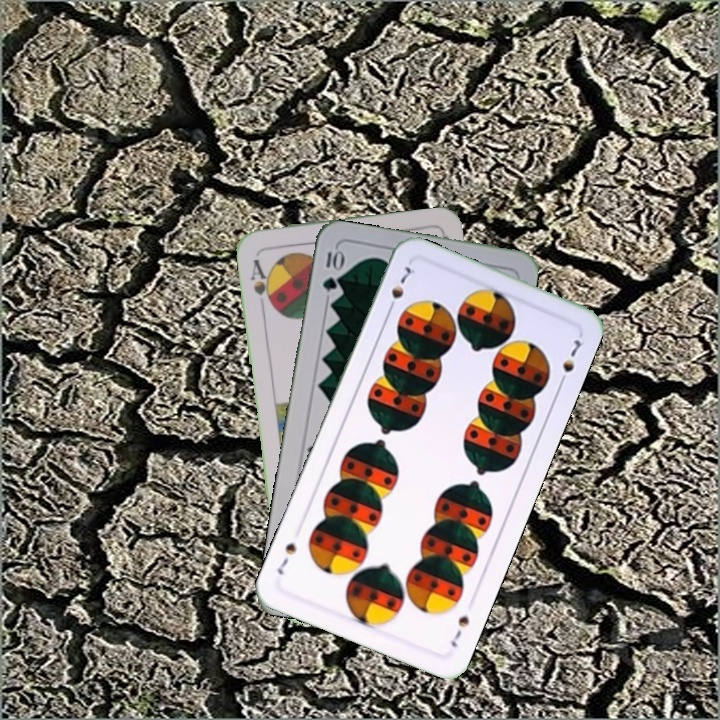G10: (318, 245, 345, 295)
S7: (383, 262, 418, 316), (446, 611, 472, 650)
SA: (246, 255, 276, 309)
